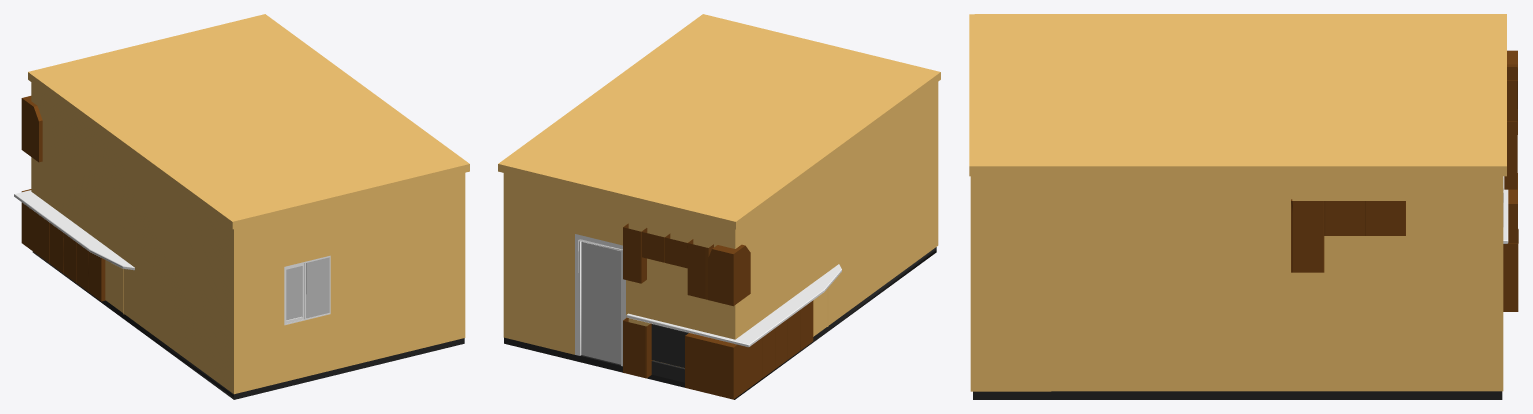
File: FloorPlan16_physics.fbx
3 views of the same model, side by side, from view 1: azimuth 30°, elevation 25°; view 2: azimuth 150°, elevation 25°; view 3: azimuth 270°, elevation 25° (orthographic). The views are drawn at different scales.
Parts seen in each view (by area): view 1: Room.038, Ceiling, Cube.462, Floor1, WindowPane, Cube.490, WindowFrame; view 2: Ceiling, Room.038, Cube.462, Door, Cube.451, Cube.490, Floor1, Cube.464, DoorFrame; view 3: Room.038, Ceiling, Cube.487, Floor1, Cube.462, Cube.451.
Part boxes in pixels (x1,y1,x2,y2): Room.038: (31,82,465,394); Ceiling: (28,14,469,229); Cube.462: (21,96,105,301); Floor1: (32,251,464,399); WindowPane: (286,257,329,320); Cube.490: (14,190,134,270); WindowFrame: (284,255,330,325); Ceiling: (498,14,940,229); Room.038: (503,82,938,367); Cube.462: (623,244,813,399); Door: (581,242,620,364); Cube.451: (623,223,713,299); Cube.490: (626,264,841,347); Floor1: (504,247,936,399); Cube.464: (651,324,688,382); DoorFrame: (575,234,625,366); Room.038: (970,176,1503,391); Ceiling: (969,14,1506,176); Cube.487: (1291,199,1405,272); Floor1: (973,391,1502,399); Cube.462: (1503,50,1518,311); Cube.451: (1504,67,1517,189).
Bounding box in the file's own units: 493 × 338 × 711.
